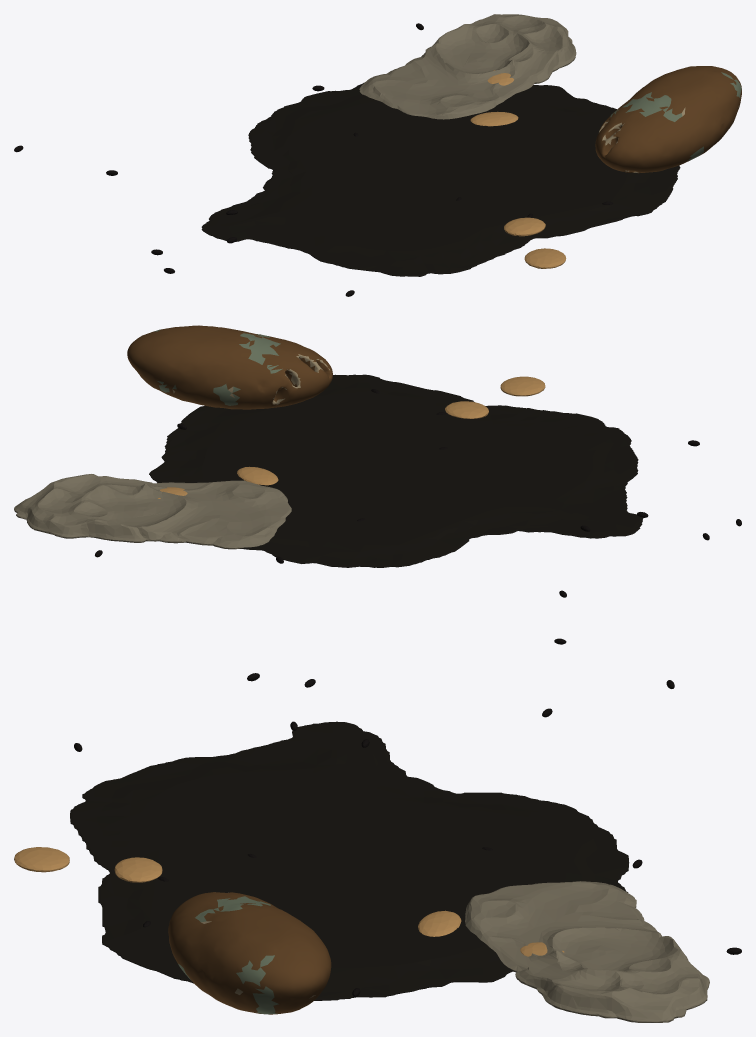
The model's file is food_scraps@1.glb.
The picture shows the model from 3 angles, top to bottom: view 1: azimuth 30°, elevation 25°; view 2: azimuth 150°, elevation 25°; view 3: azimuth 270°, elevation 25°; orthographic projection. The views are drawn at different scales.
Parts seen in each view (by area): view 1: lache, papier, brot, kekse, kot; view 2: lache, papier, brot, kekse, kot; view 3: lache, papier, brot, kekse, kot.
Part boxes in pixels (x1=…): lache: x1=201, y1=83, x2=680, y2=276; papier: x1=359, y1=14, x2=576, y2=119; brot: x1=595, y1=66, x2=741, y2=173; kekse: x1=470, y1=70, x2=566, y2=268; kot: x1=14, y1=23, x2=612, y2=296; lache: x1=149, y1=374, x2=643, y2=567; papier: x1=14, y1=474, x2=291, y2=549; brot: x1=127, y1=325, x2=332, y2=409; kekse: x1=158, y1=376, x2=545, y2=498; kot: x1=95, y1=389, x2=741, y2=644; lache: x1=70, y1=721, x2=629, y2=1000; papier: x1=465, y1=881, x2=709, y2=1022; brot: x1=168, y1=892, x2=331, y2=1014; kekse: x1=14, y1=847, x2=564, y2=956; kot: x1=74, y1=673, x2=741, y2=996.
Bounding box in the file's own units: 0.652 × 0.0695 × 0.5485.
